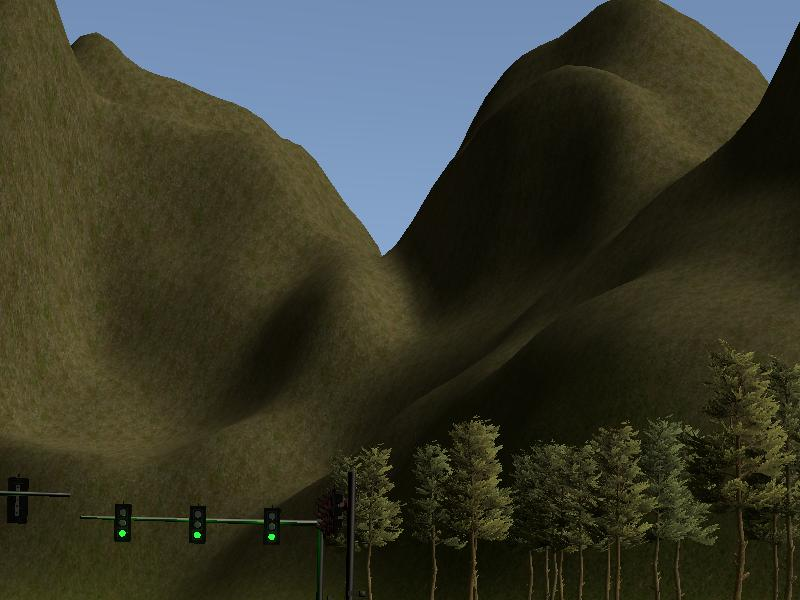Green: (264, 508, 280, 545), (189, 506, 204, 545), (116, 504, 131, 541)
